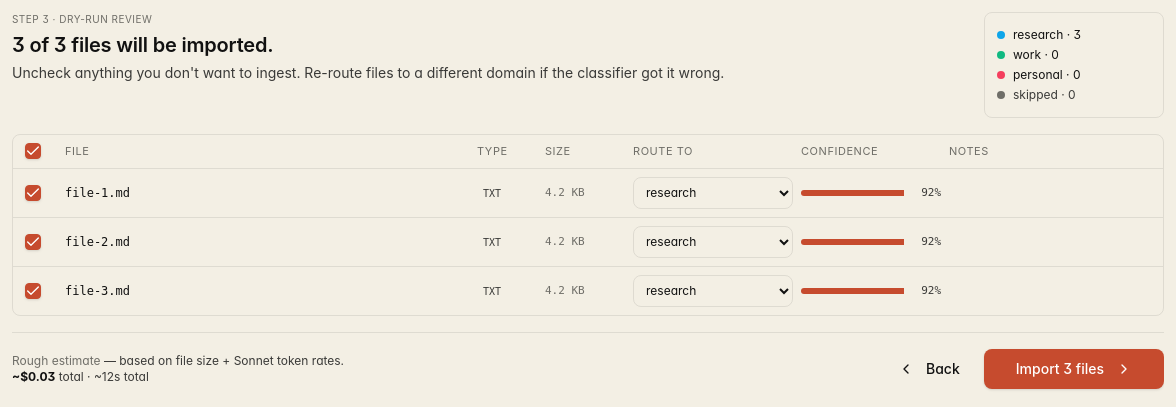
Test: StepDryRun › unchecking a row drops it from the included-count header
Check: the heading with test id "included-count" reads "3 of 3 files will be imported.", box [12,33,273,57]
Note: First row has the checkbox that corresponds to file 1.
Click the checkbox named "Include file-1.md". click: click(33, 192)
box: [25,184,41,200]
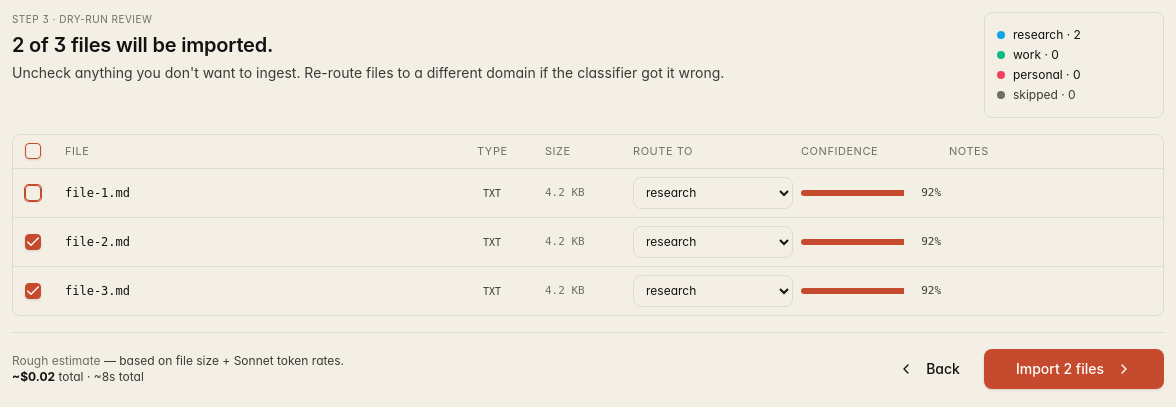
Check: the heading with test id "included-count" reads "2 of 3 files will be imported.", box [12,33,273,57]
